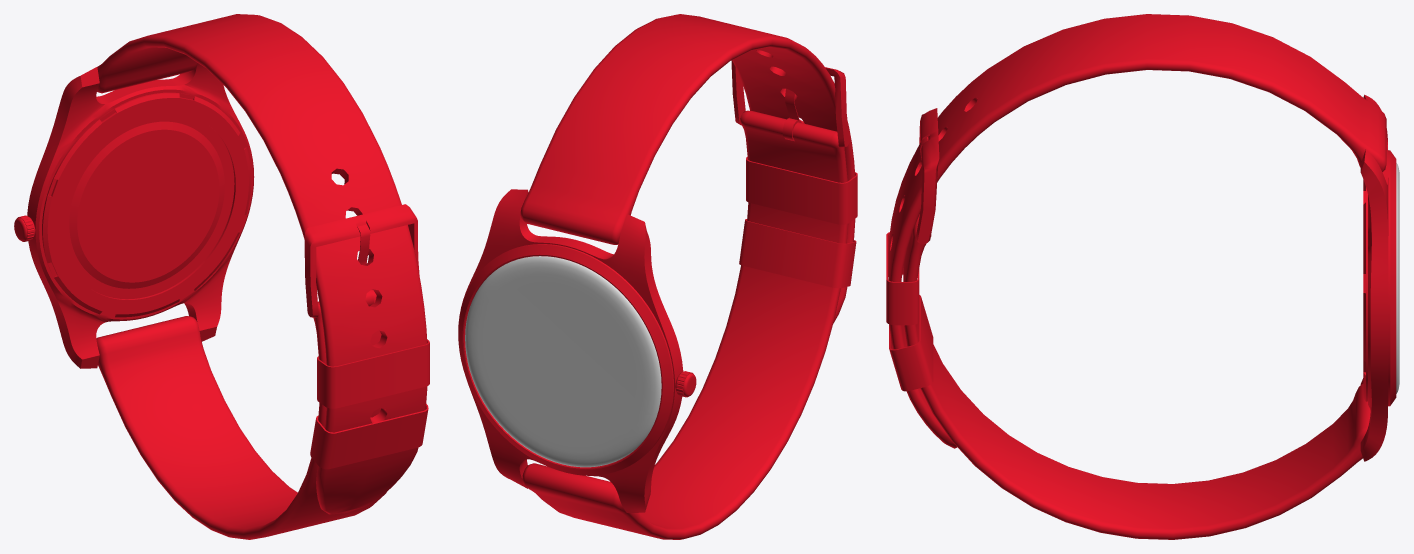
File: Watch.glb
3 views of the same model, side by side, from view 1: azimuth 30°, elevation 25°; view 2: azimuth 150°, elevation 25°; view 3: azimuth 270°, elevation 25° (orthographic). The views are drawn at different scales.
Parts seen in each view (by area): view 1: Watch; view 2: Watch; view 3: Watch.
Part boxes in pixels (box(x1,y1,x2,y2)): Watch: box(14, 14, 429, 539); Watch: box(458, 14, 857, 539); Watch: box(886, 14, 1399, 539).
Bounding box in the file's own units: 3.12 × 6.07 × 5.88.
